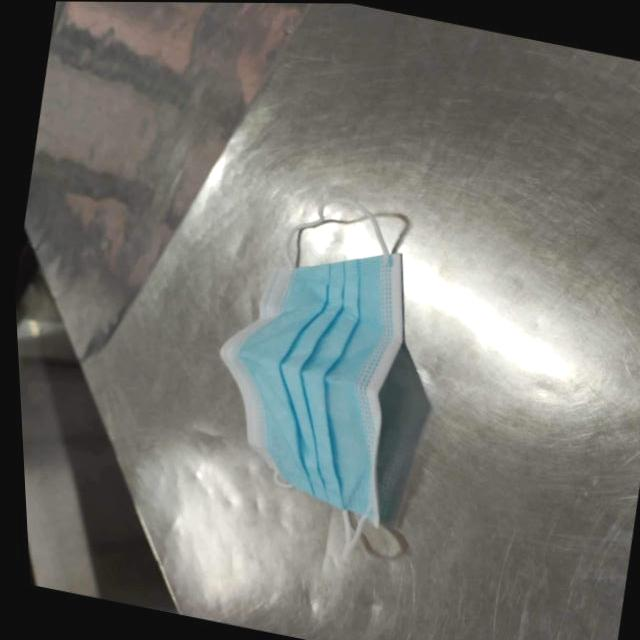General: (12, 1, 638, 638), (218, 248, 418, 530)
